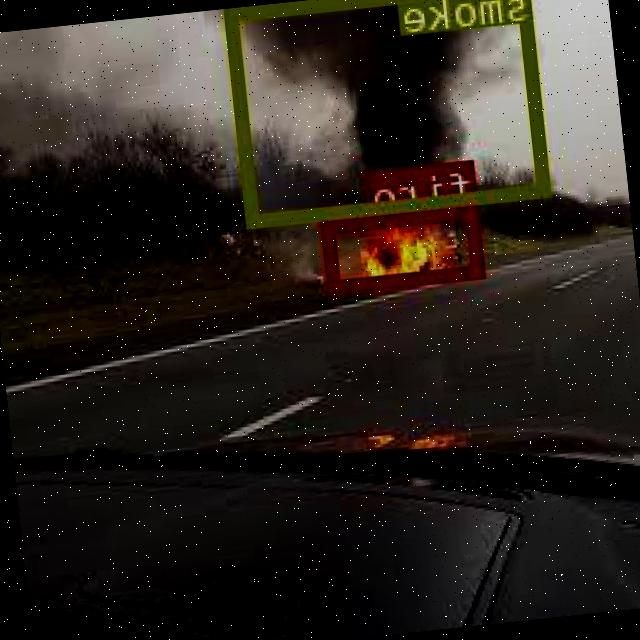fire: (324, 204, 488, 291)
smoke: (227, 0, 553, 223)
